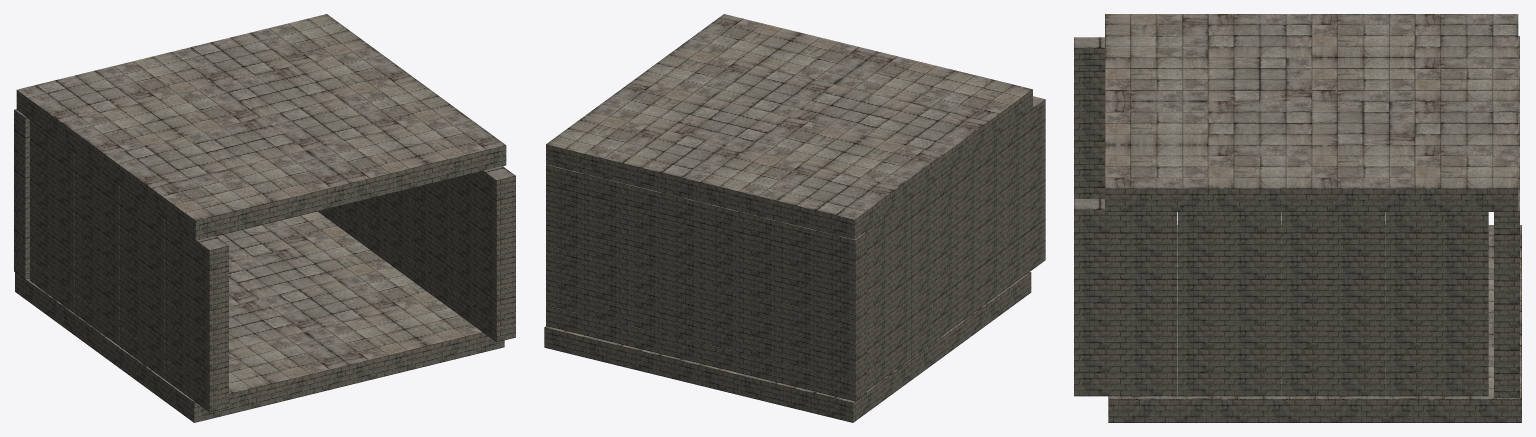
The model's file is background.FBX.
3 views of the same model, side by side, from view 1: azimuth 30°, elevation 25°; view 2: azimuth 150°, elevation 25°; view 3: azimuth 270°, elevation 25° (orthographic). The views are drawn at different scales.
Visible parts, largest first — view 1: BB_16x16x002, BB_16x16x1, BB_4x1x033, BB_4x1x091, BB_4x1x094, BB_4x1x034, BB_4x1x072, BB_4x1x038, BB_4x1x074, BB_4x1x081, BB_4x1x085, BB_4x1x042 (+39 smaller); view 2: BB_16x16x002, BB_16x16x1, BB_4x1x032, BB_4x1x1, BB_4x1x005, BB_4x1x016, BB_4x1x020, BB_4x1x009, BB_4x1x024, BB_4x1x028, BB_4x1x029, BB_4x1x031 (+54 smaller); view 3: BB_16x16x002, BB_16x16x1, BB_4x1x082, BB_4x1x065, BB_4x1x093, BB_4x1x091, BB_4x1x092, BB_4x1x095, BB_4x1x079, BB_4x1x090, BB_4x1x094, BB_4x1x078 (+36 smaller).
Boxes of the visible parts, x1,y1,x2,y2 form: BB_16x16x002: [16, 14, 506, 240]; BB_16x16x1: [15, 211, 504, 422]; BB_4x1x033: [165, 219, 228, 270]; BB_4x1x091: [451, 289, 515, 342]; BB_4x1x094: [451, 269, 515, 321]; BB_4x1x034: [165, 359, 228, 412]; BB_4x1x072: [451, 208, 515, 260]; BB_4x1x038: [165, 338, 228, 391]; BB_4x1x074: [451, 249, 515, 300]; BB_4x1x081: [451, 188, 515, 240]; BB_4x1x085: [451, 229, 515, 281]; BB_4x1x042: [165, 318, 228, 370]; BB_16x16x002: [546, 14, 1032, 239]; BB_16x16x1: [544, 272, 1031, 422]; BB_4x1x032: [778, 221, 866, 260]; BB_4x1x1: [778, 362, 866, 401]; BB_4x1x005: [778, 342, 866, 380]; BB_4x1x016: [778, 302, 866, 340]; BB_4x1x020: [778, 282, 866, 320]; BB_4x1x009: [778, 322, 866, 360]; BB_4x1x024: [778, 262, 866, 300]; BB_4x1x028: [778, 242, 866, 280]; BB_4x1x029: [546, 164, 623, 203]; BB_4x1x031: [701, 202, 778, 241]; BB_16x16x002: [1105, 14, 1518, 211]; BB_16x16x1: [1108, 225, 1521, 422]; BB_4x1x082: [1074, 198, 1177, 232]; BB_4x1x065: [1385, 348, 1488, 372]; BB_4x1x093: [1385, 372, 1488, 396]; BB_4x1x091: [1074, 372, 1177, 396]; BB_4x1x092: [1281, 372, 1384, 396]; BB_4x1x095: [1178, 372, 1281, 396]; BB_4x1x079: [1178, 348, 1281, 372]; BB_4x1x090: [1281, 348, 1384, 372]; BB_4x1x094: [1074, 348, 1177, 372]; BB_4x1x078: [1281, 302, 1384, 326].
Size of the model in its own units: 805 by 866 by 500.
